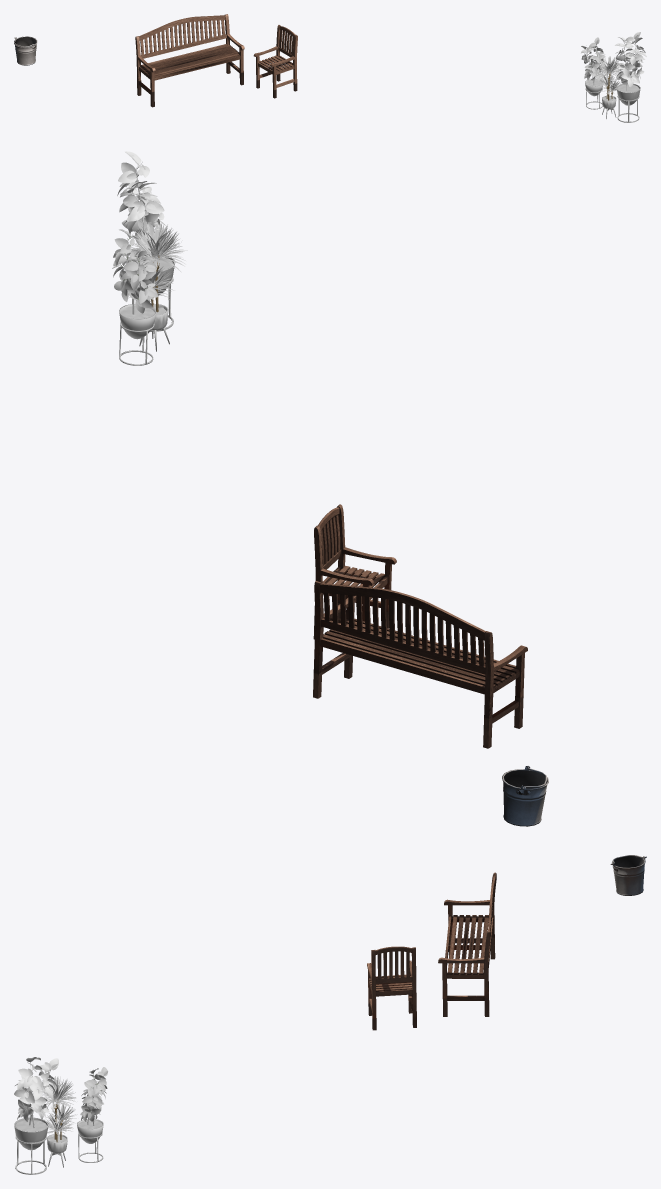
File: Ornamentos-2.fbx
3 views of the same model, one above another, from view 1: azimuth 30°, elevation 25°; view 2: azimuth 150°, elevation 25°; view 3: azimuth 270°, elevation 25° (orthographic). The views are drawn at different scales.
Visible parts, largest first — view 1: Banco, Casa - Vaso 1 - ok - Comb, Casa - Vaso 3 - ok - Comb, Casa - Vaso 2 - ok - Comb, Balde - ok - AO; view 2: Banco, Casa - Vaso 3 - ok - Comb, Casa - Vaso 1 - ok - Comb, Casa - Vaso 2 - ok - Comb, Balde - ok - AO; view 3: Banco, Casa - Vaso 1 - ok - Comb, Casa - Vaso 3 - ok - Comb, Casa - Vaso 2 - ok - Comb, Balde - ok - AO.
Part boxes in pixels (left/top/right/bottom): Banco: left=135, top=14, right=297, bottom=107; Casa - Vaso 1 - ok - Comb: left=615, top=32, right=646, bottom=122; Casa - Vaso 3 - ok - Comb: left=581, top=37, right=605, bottom=109; Casa - Vaso 2 - ok - Comb: left=594, top=56, right=622, bottom=118; Balde - ok - AO: left=14, top=36, right=37, bottom=65; Banco: left=313, top=504, right=527, bottom=748; Casa - Vaso 3 - ok - Comb: left=112, top=229, right=157, bottom=365; Casa - Vaso 1 - ok - Comb: left=117, top=151, right=175, bottom=331; Casa - Vaso 2 - ok - Comb: left=124, top=223, right=187, bottom=351; Balde - ok - AO: left=502, top=765, right=548, bottom=826; Banco: left=367, top=872, right=496, bottom=1030; Casa - Vaso 1 - ok - Comb: left=14, top=1057, right=58, bottom=1174; Casa - Vaso 3 - ok - Comb: left=77, top=1067, right=107, bottom=1162; Casa - Vaso 2 - ok - Comb: left=41, top=1076, right=77, bottom=1167; Balde - ok - AO: left=610, top=855, right=646, bottom=895.
Size of the model in its own units: 963 by 214 by 874.
